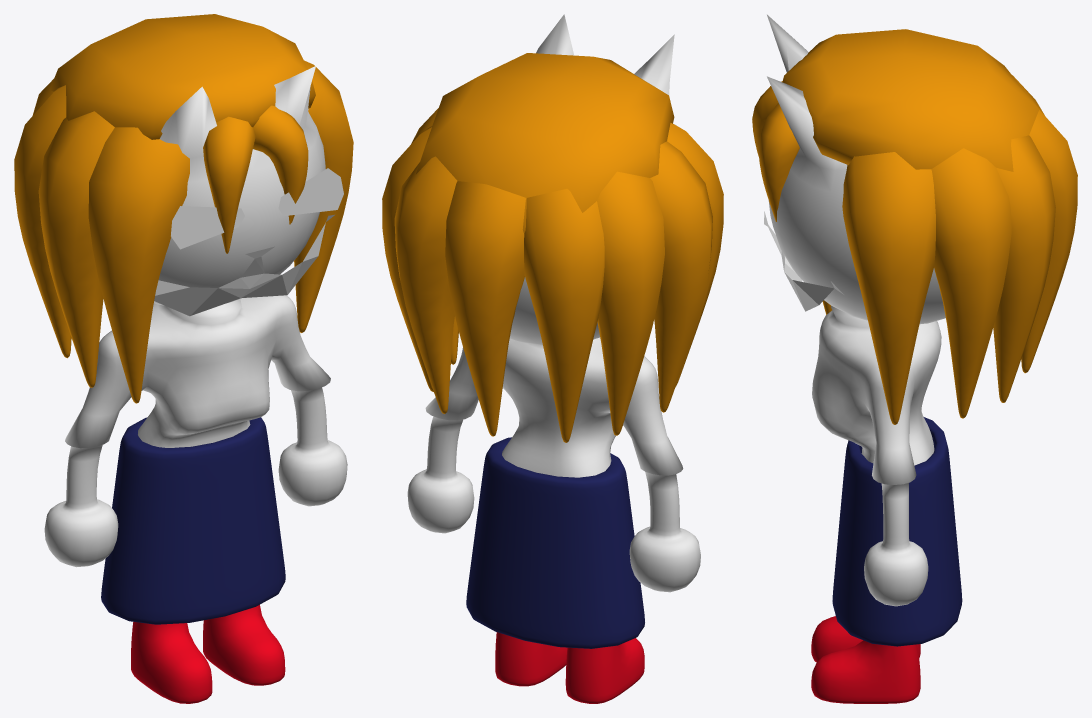
Rendered from neko-ark.fbx.
3 renders of one model, left to right at view 1: azimuth 30°, elevation 25°; view 2: azimuth 150°, elevation 25°; view 3: azimuth 270°, elevation 25°, orthographic. The views are drawn at different scales.
Visible parts, largest first — view 1: Cube.001; view 2: Cube.001; view 3: Cube.001.
Part boxes in pixels (box(x1,y1,x2,y2)): Cube.001: box(14, 14, 353, 703); Cube.001: box(382, 14, 723, 703); Cube.001: box(752, 14, 1077, 703).
Bounding box in the file's own units: 124 × 249 × 116.
